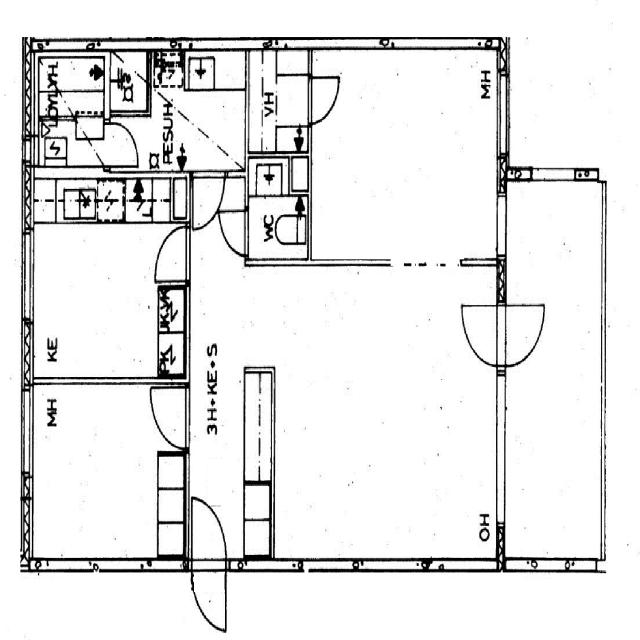door: (188, 491, 228, 633), (459, 298, 505, 369), (147, 383, 192, 452), (499, 298, 546, 364), (304, 69, 344, 128), (152, 221, 190, 283), (190, 171, 227, 231), (105, 116, 141, 170), (219, 202, 251, 256)
window: (493, 373, 508, 526), (18, 226, 37, 326), (17, 388, 36, 480), (531, 160, 578, 189)
zone: (283, 267, 500, 573), (504, 171, 604, 577), (312, 52, 500, 264), (28, 381, 184, 568), (28, 218, 184, 382), (149, 61, 247, 174), (246, 49, 310, 158), (248, 180, 310, 263), (38, 54, 105, 128), (242, 371, 276, 483), (126, 176, 186, 222), (248, 158, 291, 195)
